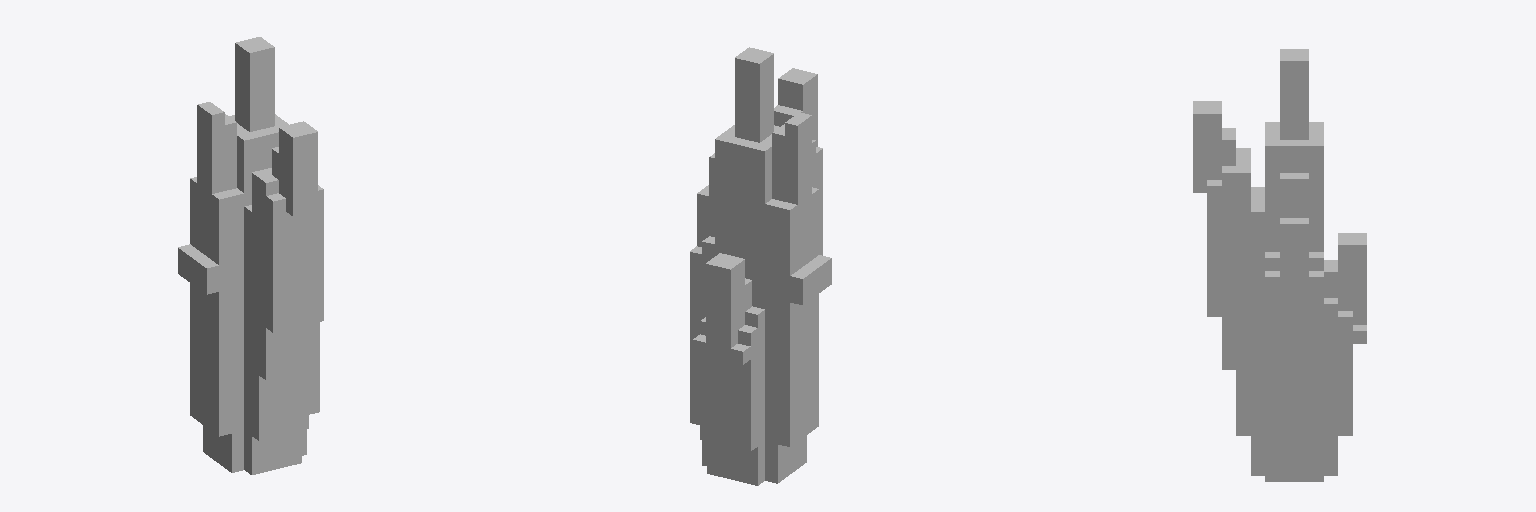
Rendered from alchemizer blue.obj.
3 views of the same model, side by side, from view 1: azimuth 30°, elevation 25°; view 2: azimuth 150°, elevation 25°; view 3: azimuth 270°, elevation 25° (orthographic).
Parts seen in each view (by area): view 1: object 1; view 2: object 1; view 3: object 1.
Boxes of the visible parts, x1=… form: object 1: x1=178, y1=37, x2=323, y2=474; object 1: x1=690, y1=47, x2=831, y2=485; object 1: x1=1193, y1=49, x2=1366, y2=481.
Bounding box in the file's own units: 0.9 × 3.1 × 1.2.